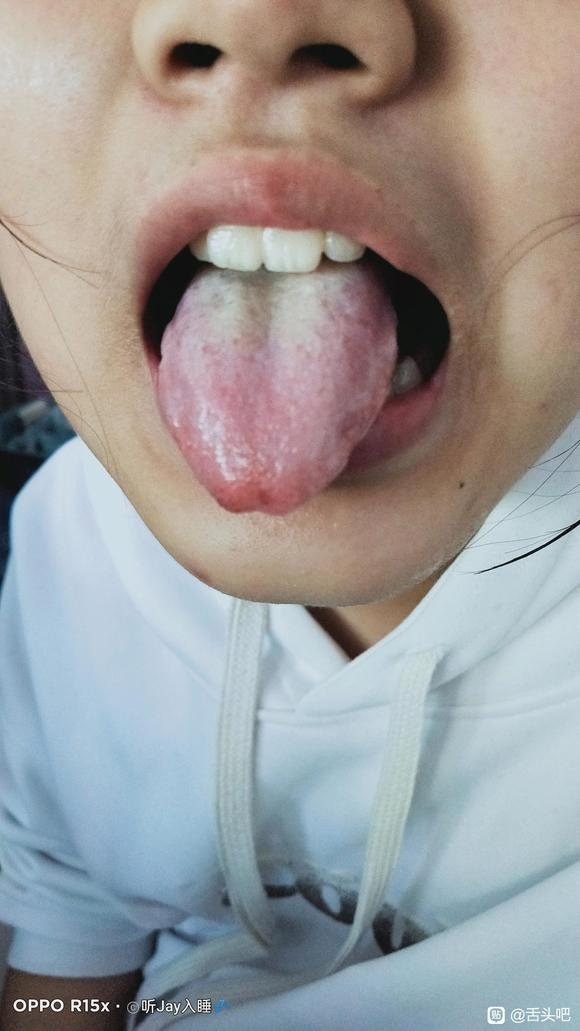chihenshe: (327, 398, 380, 464)
huangtaishe: (158, 266, 398, 517)
xinfeiao: (229, 491, 282, 518)
